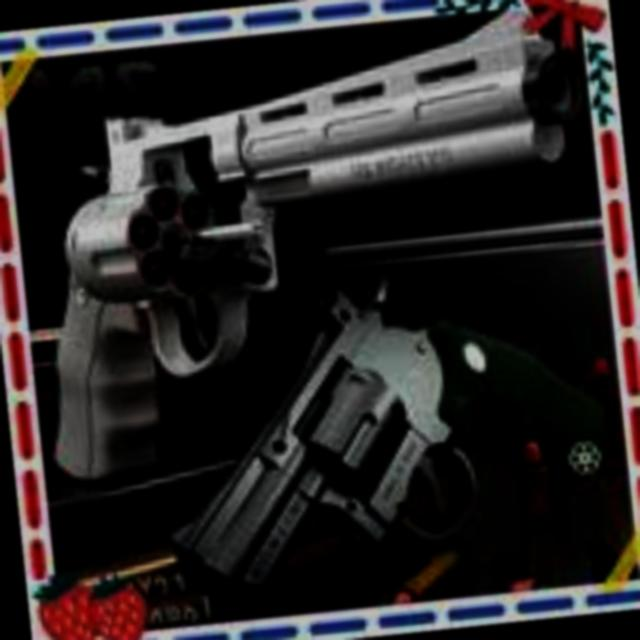semi automatic: (0, 0, 619, 494)
